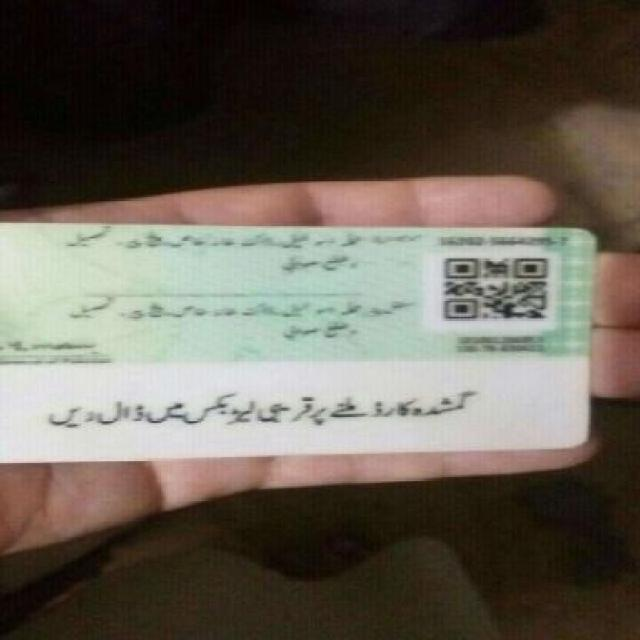Back: (3, 216, 602, 470)
